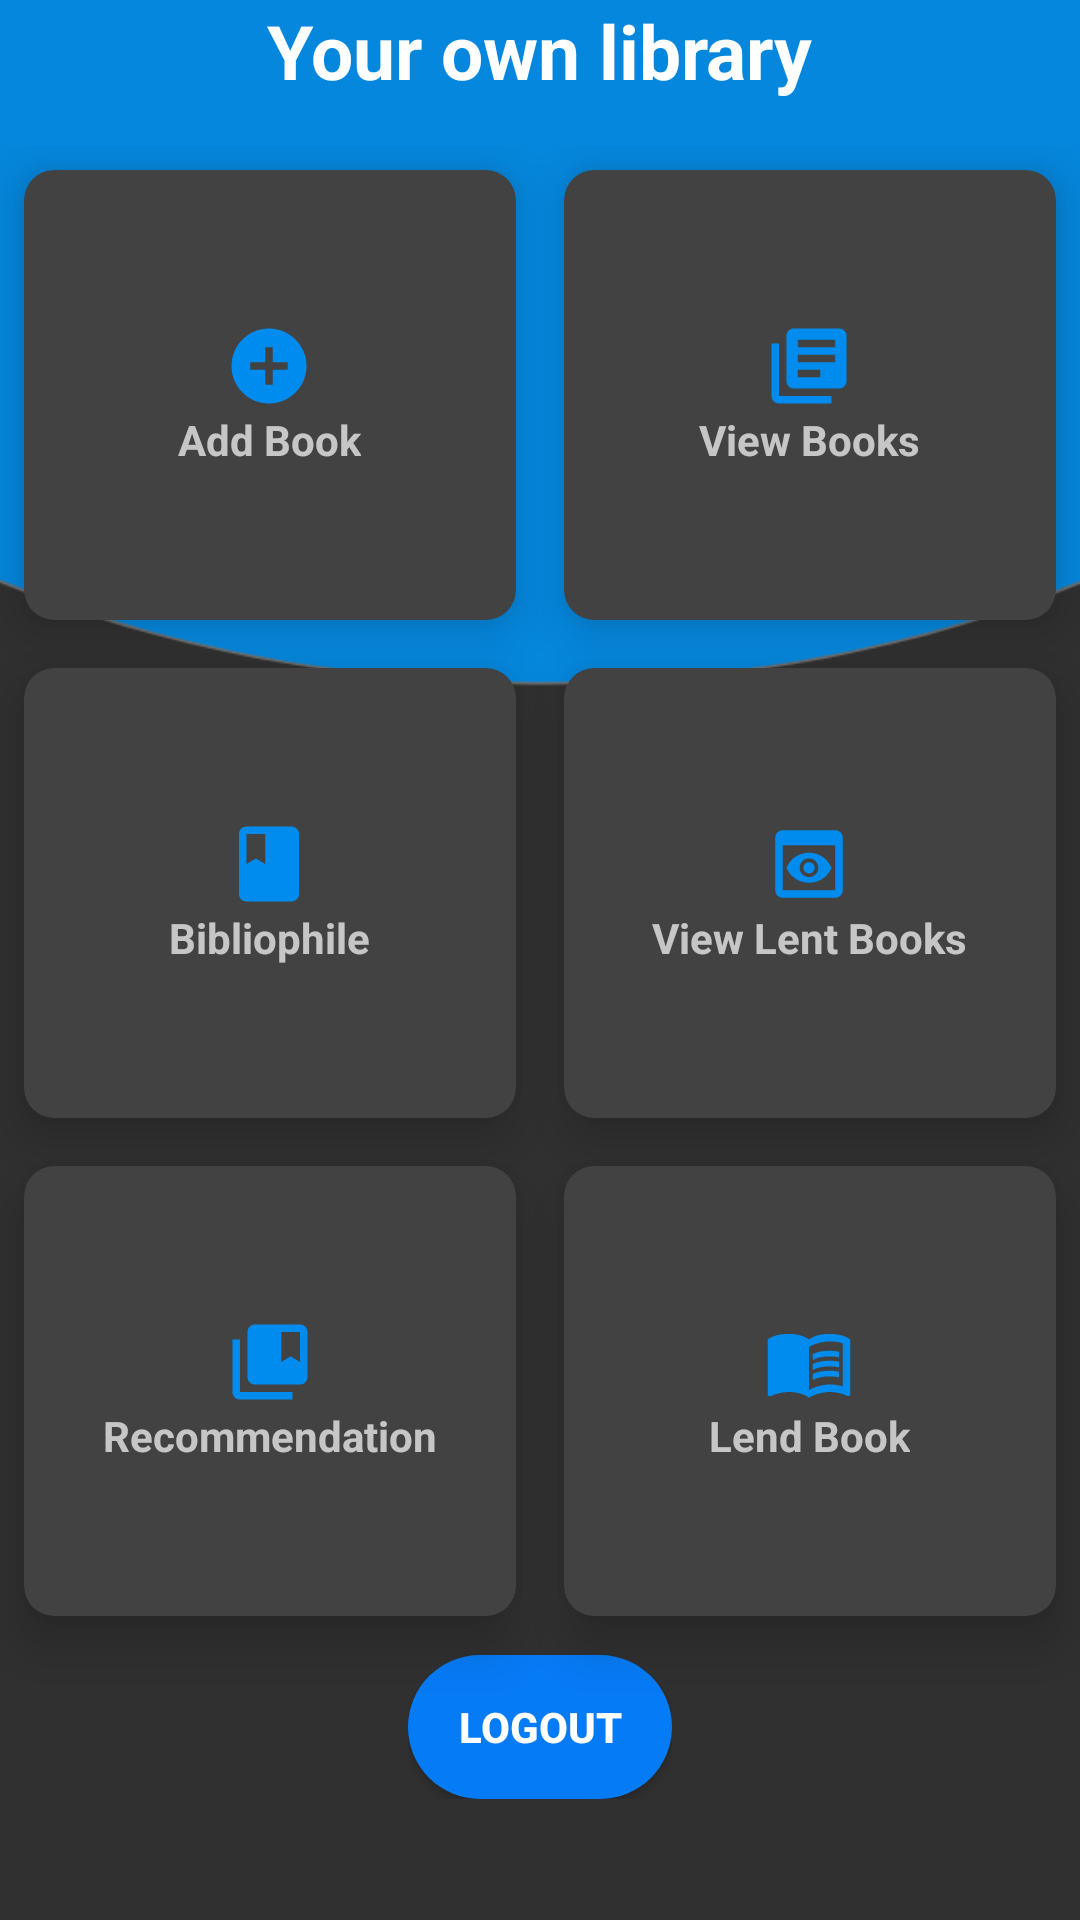

Icons on this 1080*1920 Android screen, each with the point to tap as point (x, y):
book: point (269, 864)
